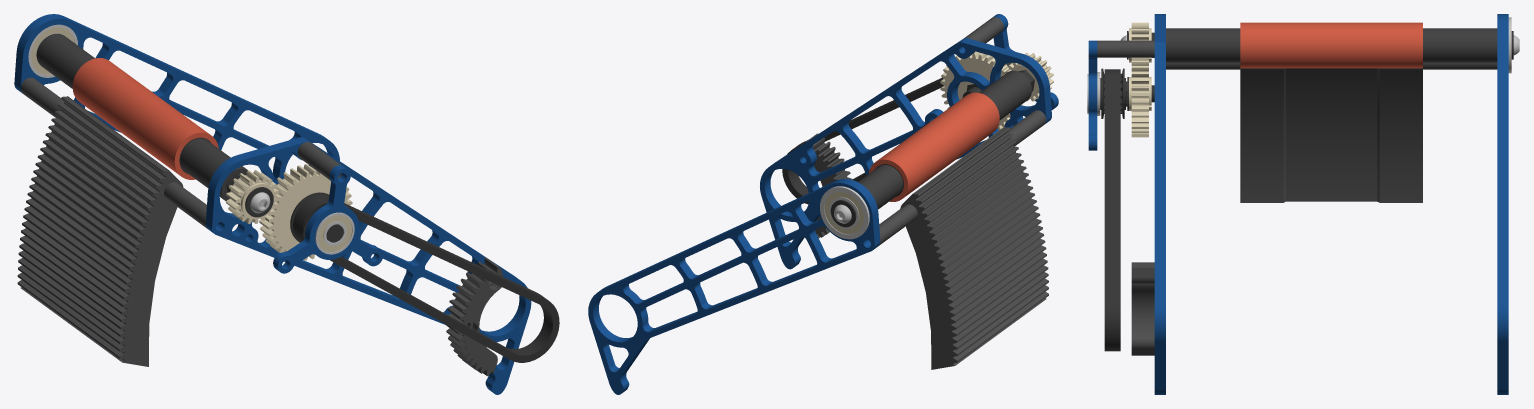
3 views of the same model, side by side, from view 1: azimuth 30°, elevation 25°; view 2: azimuth 150°, elevation 25°; view 3: azimuth 270°, elevation 25° (orthographic). The views are drawn at different scales.
Parts seen in each view (by area): view 1: 507-C0-P003, 506-C0-P001, Sushi Roller (40A, 1/2" Hex Bore) (×4), 506-C0-P003, 75t 5mm Belt, 1/2" Hex Bore Custom Spacer (0.75" OD,1.625" L) (×2), 506-C0-P004, 506-C0-P002, 36t Aluminum Spur Gear (20 DP, 1/2" Hex Bore), 506-C0-P006, 18t Aluminum Spur Gear (20 DP, 1/2" Hex Bore), 3/8" Rounded Hex (10.25mm) ID Bearing (0.875" OD, 0.281" WD, (+3 smaller); view 2: 507-C0-P003, 506-C0-P003, 506-C0-P001, Sushi Roller (40A, 1/2" Hex Bore) (×4), 1/2" Hex Bore Custom Spacer (0.75" OD,1.625" L) (×2), 1/2" Hex Bore Bearing (1.125" OD, 0.313" WD, Shielded, Flang, 75t 5mm Belt, 506-C0-P006, 36t Aluminum Spur Gear (20 DP, 1/2" Hex Bore), 506-C0-P004, Shaft, 506-C0-P005 (+2 smaller); view 3: 507-C0-P003, Sushi Roller (40A, 1/2" Hex Bore) (×4), 1/2" Hex Bore Custom Spacer (0.75" OD,1.625" L) (×2), 75t 5mm Belt, 506-C0-P001, 506-C0-P003, 506-C0-P004, 36t Aluminum Spur Gear (20 DP, 1/2" Hex Bore), 506-C0-P006, 506-C0-P002, 506-C0-P005, 15t Aluminum Pulley (HTD 5mm, 9mm Wide, 1/2" Hex Bore) (+1 smaller).
Part boxes in pixels (<box>): 507-C0-P003: <box>17,96,183,366</box>; 506-C0-P001: <box>205,137,531,394</box>; Sushi Roller (40A, 1/2" Hex Bore) (×4): <box>72,58,218,179</box>; 506-C0-P003: <box>14,14,339,184</box>; 75t 5mm Belt: <box>293,194,559,362</box>; 1/2" Hex Bore Custom Spacer (0.75" OD,1.625" L) (×2): <box>36,33,247,200</box>; 506-C0-P004: <box>446,257,503,376</box>; 506-C0-P002: <box>273,165,383,273</box>; 36t Aluminum Spur Gear (20 DP, 1/2" Hex Bore): <box>259,164,352,260</box>; 506-C0-P006: <box>20,77,207,228</box>; 18t Aluminum Spur Gear (20 DP, 1/2" Hex Bore): <box>225,170,279,224</box>; 3/8" Rounded Hex (10.25mm) ID Bearing (0.875" OD, 0.281" WD,: <box>315,212,354,254</box>; 507-C0-P003: <box>900,127,1048,369</box>; 506-C0-P003: <box>588,178,880,394</box>; 506-C0-P001: <box>760,38,1051,269</box>; Sushi Roller (40A, 1/2" Hex Bore) (×4): <box>868,92,999,201</box>; 1/2" Hex Bore Custom Spacer (0.75" OD,1.625" L) (×2): <box>858,70,1031,209</box>; 1/2" Hex Bore Bearing (1.125" OD, 0.313" WD, Shielded, Flang: <box>820,186,869,239</box>; 75t 5mm Belt: <box>782,62,1011,204</box>; 506-C0-P006: <box>879,110,1046,245</box>; 36t Aluminum Spur Gear (20 DP, 1/2" Hex Bore): <box>940,51,1022,130</box>; 506-C0-P004: <box>805,133,852,237</box>; Shaft: <box>830,70,1034,227</box>; 506-C0-P005: <box>964,17,1003,43</box>; 507-C0-P003: <box>1240,68,1422,202</box>; Sushi Roller (40A, 1/2" Hex Bore) (×4): <box>1240,22,1422,68</box>; 1/2" Hex Bore Custom Spacer (0.75" OD,1.625" L) (×2): <box>1166,28,1497,62</box>; 75t 5mm Belt: <box>1104,69,1120,351</box>; 506-C0-P001: <box>1154,14,1165,394</box>; 506-C0-P003: <box>1497,14,1508,394</box>; 506-C0-P004: <box>1131,262,1154,355</box>; 36t Aluminum Spur Gear (20 DP, 1/2" Hex Bore): <box>1129,57,1151,137</box>; 506-C0-P006: <box>1166,62,1497,69</box>; 506-C0-P002: <box>1088,40,1097,150</box>; 506-C0-P005: <box>1097,40,1154,57</box>; 15t Aluminum Pulley (HTD 5mm, 9mm Wide, 1/2" Hex Bore): <box>1100,68,1125,118</box>.
Bounding box in the file's own units: 0.2094 × 0.1647 × 0.2402.
